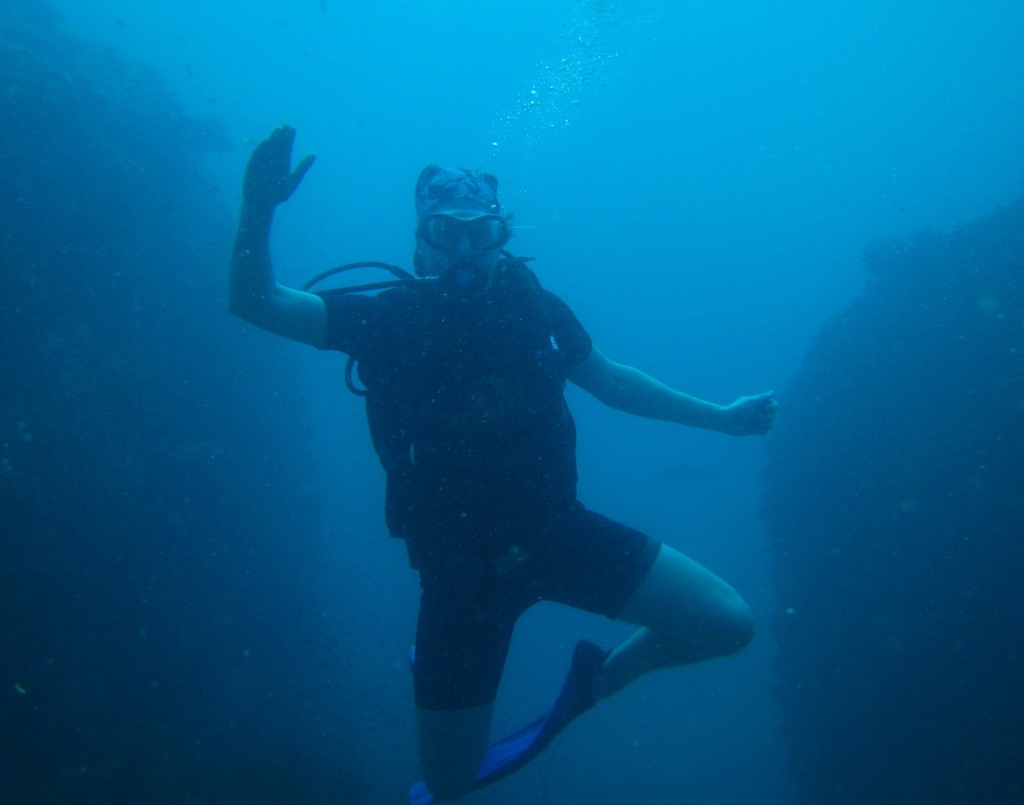Person: (227, 123, 777, 798)
